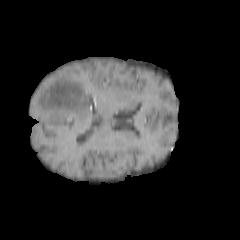glioma: (33, 77, 93, 133)
